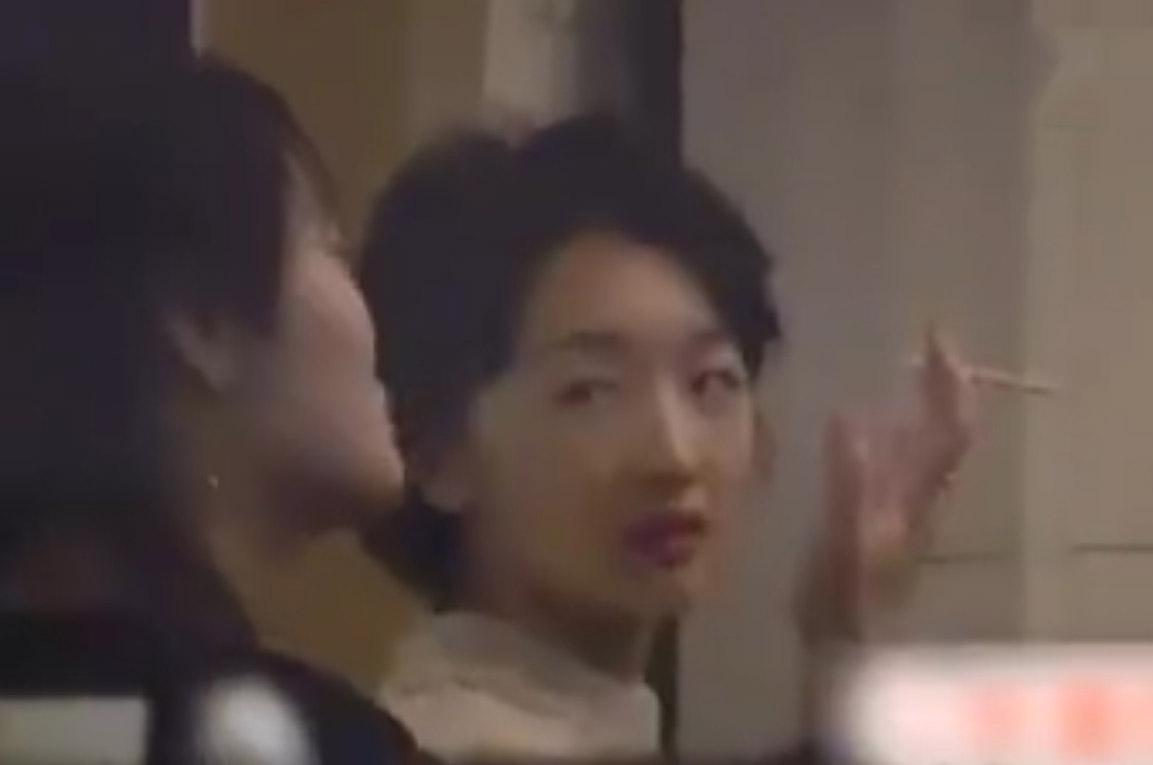smoking: (925, 340, 1069, 431)
